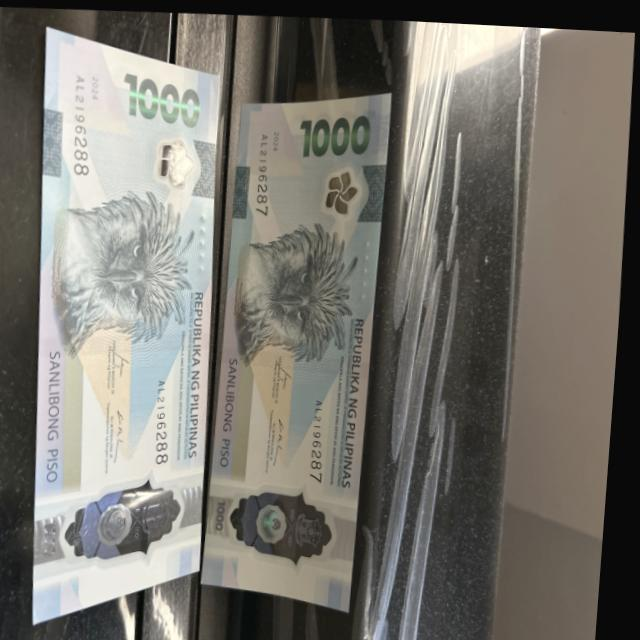clear_window: (70, 458, 200, 576), (227, 484, 346, 558)
eagle: (50, 185, 194, 348), (228, 214, 355, 363)
sampaguita: (160, 125, 199, 189), (321, 163, 365, 212)
serial_number: (308, 388, 342, 484), (66, 68, 95, 178), (156, 371, 181, 465)
value: (300, 105, 376, 159)
